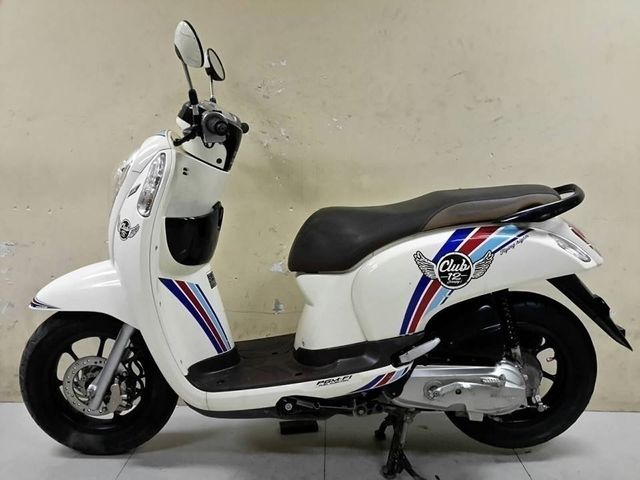motorcycle: (17, 98, 605, 453)
